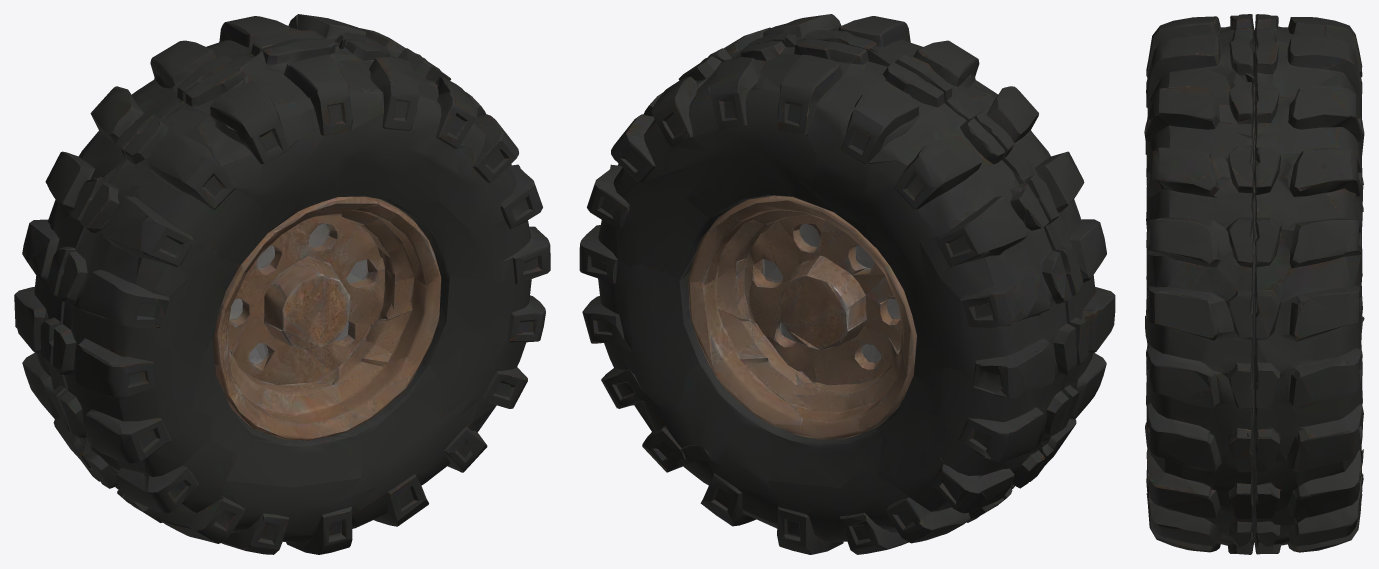
File: marsh_buggy_wheel.glb
3 views of the same model, side by side, from view 1: azimuth 30°, elevation 25°; view 2: azimuth 150°, elevation 25°; view 3: azimuth 270°, elevation 25° (orthographic).
Parts seen in each view (by area): view 1: mesh_node; view 2: mesh_node; view 3: mesh_node.
Boxes of the visible parts, <box> form: mesh_node: <box>14,14,550,554</box>; mesh_node: <box>579,14,1115,554</box>; mesh_node: <box>1144,14,1364,554</box>.
Size of the model in its own units: 1.9 by 1.9 by 0.7723.
Materials: 1 (1 with a texture image).
